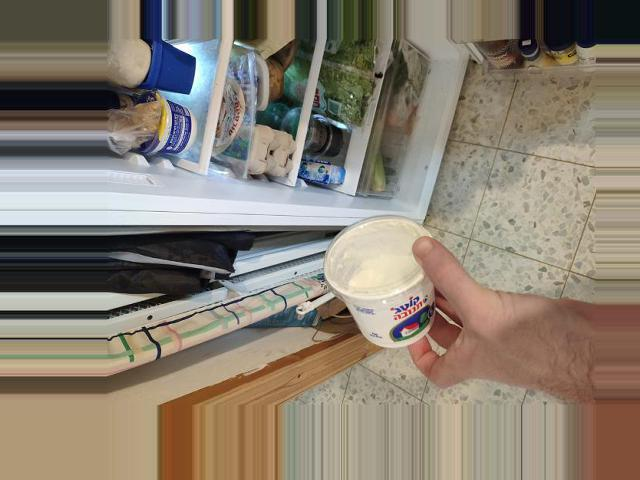cotage: (333, 219, 439, 347)
